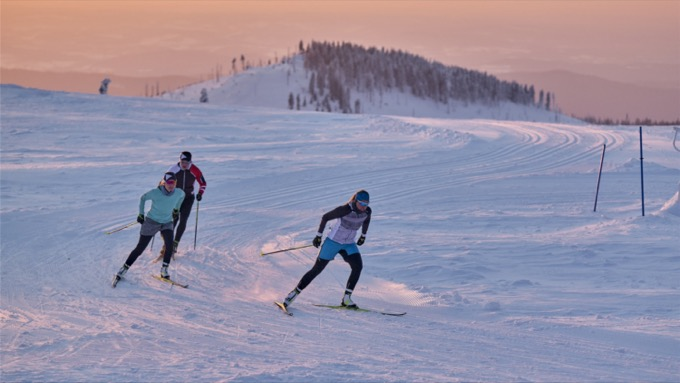skier: (257, 187, 409, 326), (107, 171, 188, 299), (147, 148, 207, 265)
